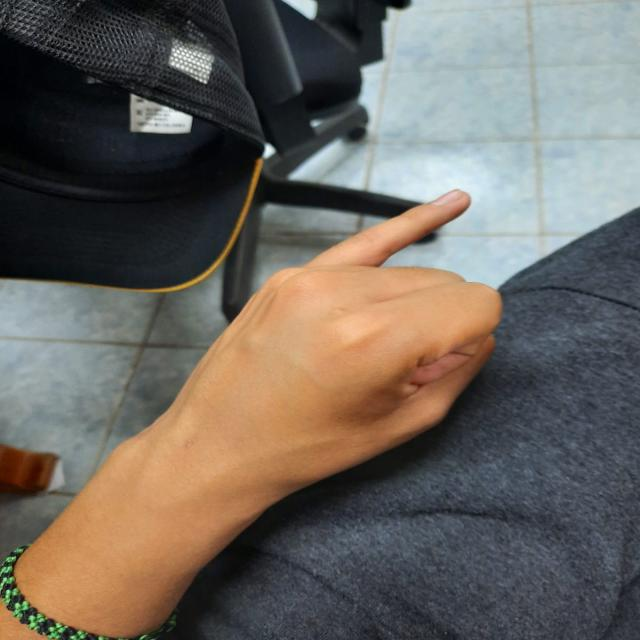Z: (142, 175, 535, 542)
